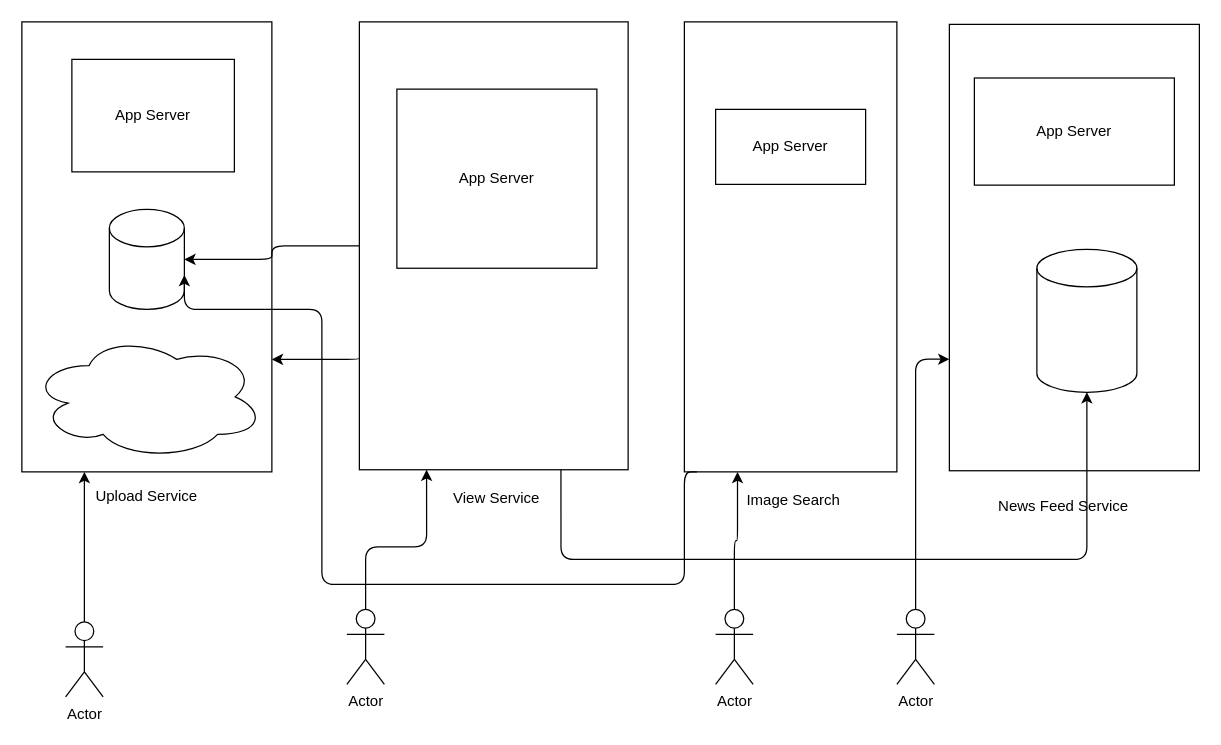
Image size: 1221x745. Some labels were removed from this diagram. The shapes that lost their labels are listed below. From the top down, each one's centre as x and y in pixels, then its label:
At [146,258]: "Image Metadata".
At [1086,320]: "User Data".
At [146,396]: "Image Object Storage".
